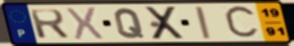C: (222, 4, 262, 41)
I: (193, 5, 214, 40)
Q: (112, 7, 146, 40)
R: (28, 8, 72, 40)
X: (144, 5, 188, 41), (65, 6, 106, 41)
